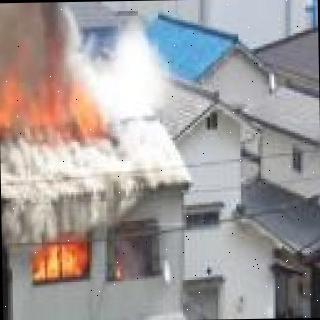fire: (0, 26, 106, 147), (26, 233, 101, 290)
